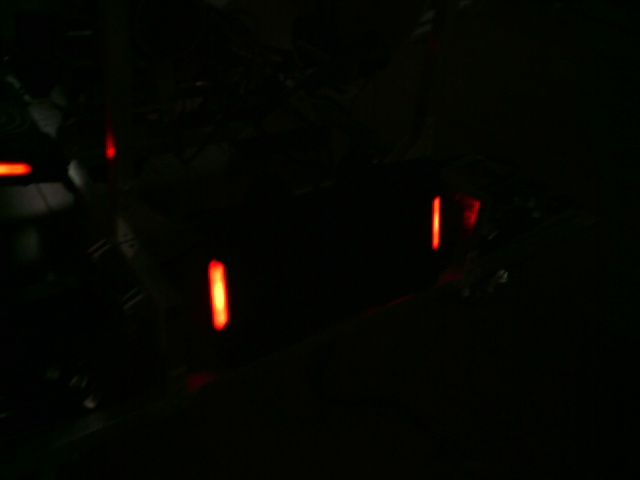lamp: (207, 256, 233, 331), (429, 195, 443, 251)
